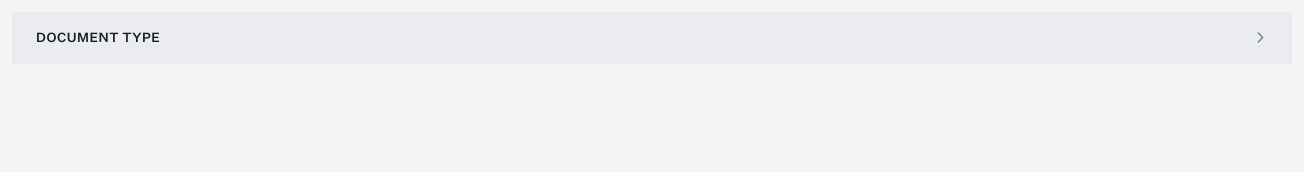
Test: FilterCard › expands on click and reveals children
The image size is (1304, 172).
Click the button "Document type".
click(98, 37)  # box [12,12,1292,64]
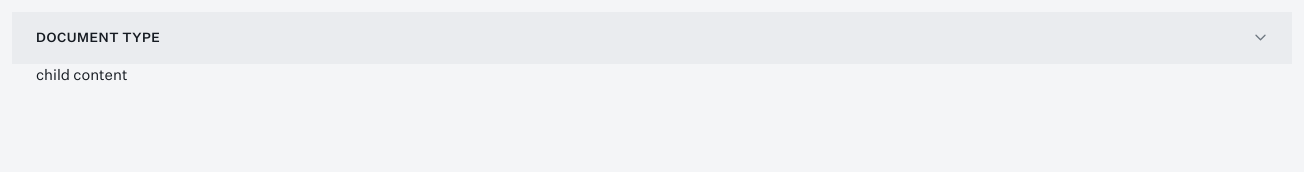
Now the button "Document type" is expanded, box [12,12,1292,64]
Now the text with test id "child" reads "child content", box [36,66,127,82]
